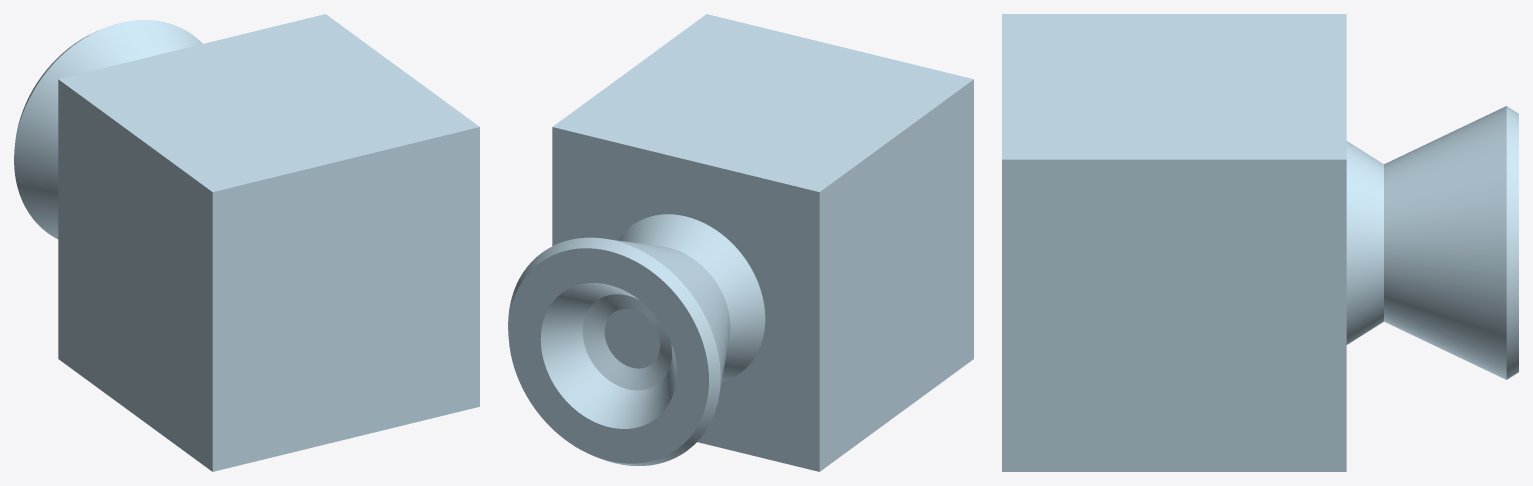
File: thruster - thruster.gltf
3 renders of one model, left to right at view 1: azimuth 30°, elevation 25°; view 2: azimuth 150°, elevation 25°; view 3: azimuth 270°, elevation 25°, orthographic. The views are drawn at different scales.
Visible parts, largest first — view 1: thruster; view 2: thruster; view 3: thruster.
Boxes of the visible parts, box(x1,y1,x2,y2) form: thruster: box(14, 14, 479, 471); thruster: box(508, 14, 973, 471); thruster: box(1002, 14, 1518, 471).
Size of the model in its own units: 0.5 by 0.5 by 0.75.
